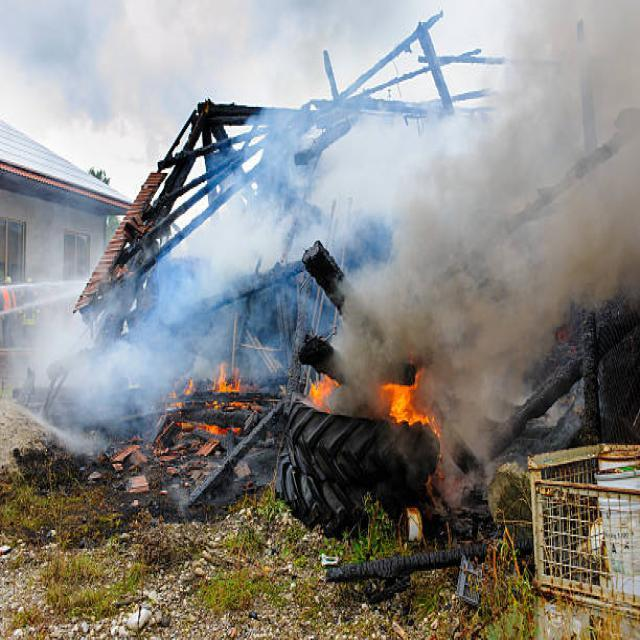Fire: (374, 353, 430, 439), (304, 366, 332, 413)
Smoke: (385, 1, 638, 418), (199, 112, 407, 384), (60, 276, 264, 469), (423, 376, 505, 508), (178, 353, 255, 449)
